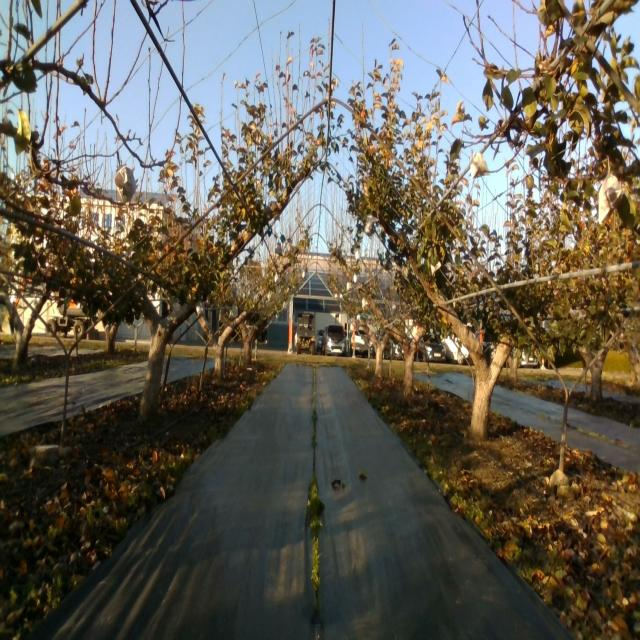pearbags: (598, 167, 621, 227), (114, 164, 136, 204), (470, 153, 490, 180), (365, 214, 380, 232)
